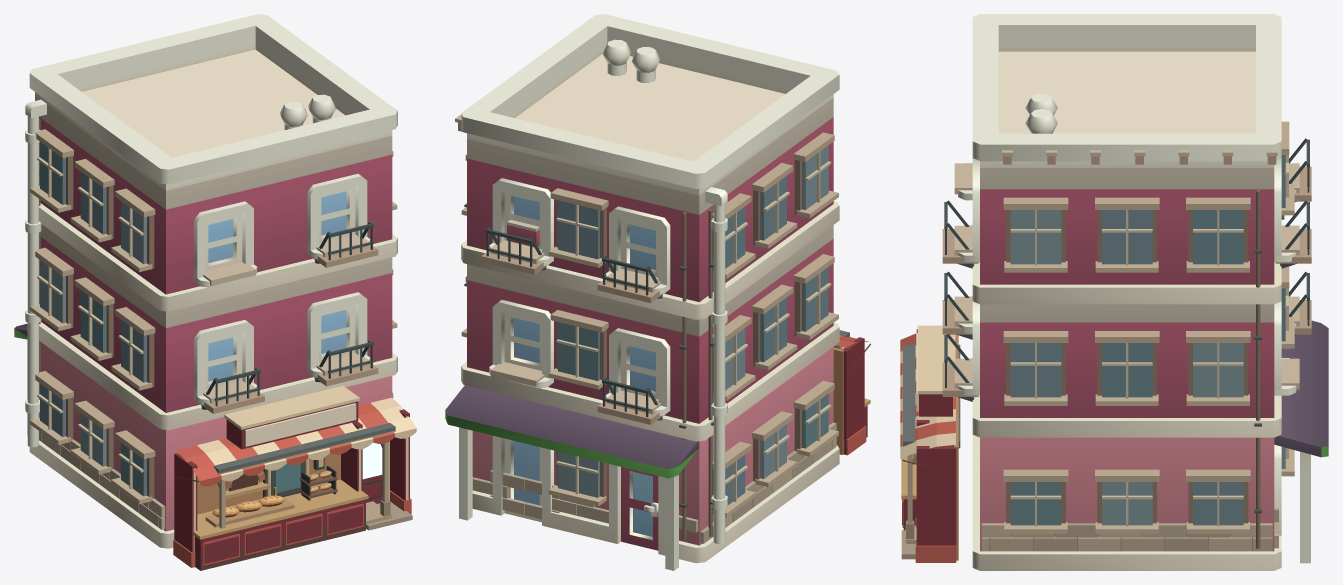
The model's file is shop-h-pink.glb.
The picture shows the model from 3 angles, left to right: view 1: azimuth 30°, elevation 25°; view 2: azimuth 150°, elevation 25°; view 3: azimuth 270°, elevation 25°; orthographic projection. The views are drawn at different scales.
Parts seen in each view (by area): view 1: building-h, Eaps_Bakery_Joinery, Masonry_and_stairwell_windows, Upper_floor_balconies_and_carved_cornice, Residential_Portico; view 2: building-h, Masonry_and_stairwell_windows, Upper_floor_balconies_and_carved_cornice, Eaps_Bakery_Joinery; view 3: building-h, Masonry_and_stairwell_windows, Eaps_Bakery_Joinery, Upper_floor_balconies_and_carved_cornice, Residential_Portico.
Boxes of the visible parts, x1,y1,x2,y2 form: building-h: (14, 14, 397, 548); Eaps_Bakery_Joinery: (173, 385, 416, 570); Masonry_and_stairwell_windows: (30, 119, 397, 529); Upper_floor_balconies_and_carved_cornice: (201, 221, 378, 413); Residential_Portico: (213, 423, 395, 528); building-h: (445, 14, 839, 570); Masonry_and_stairwell_windows: (461, 132, 838, 543); Upper_floor_balconies_and_carved_cornice: (455, 115, 662, 424); Eaps_Bakery_Joinery: (833, 335, 870, 455); building-h: (958, 14, 1328, 570); Masonry_and_stairwell_windows: (981, 121, 1294, 550); Eaps_Bakery_Joinery: (900, 325, 958, 562); Upper_floor_balconies_and_carved_cornice: (942, 138, 1311, 401); Residential_Portico: (902, 344, 960, 543).
Size of the model in its own units: 0.9198 by 1.29 by 1.16.
Materials: 57 (1 with a texture image).
